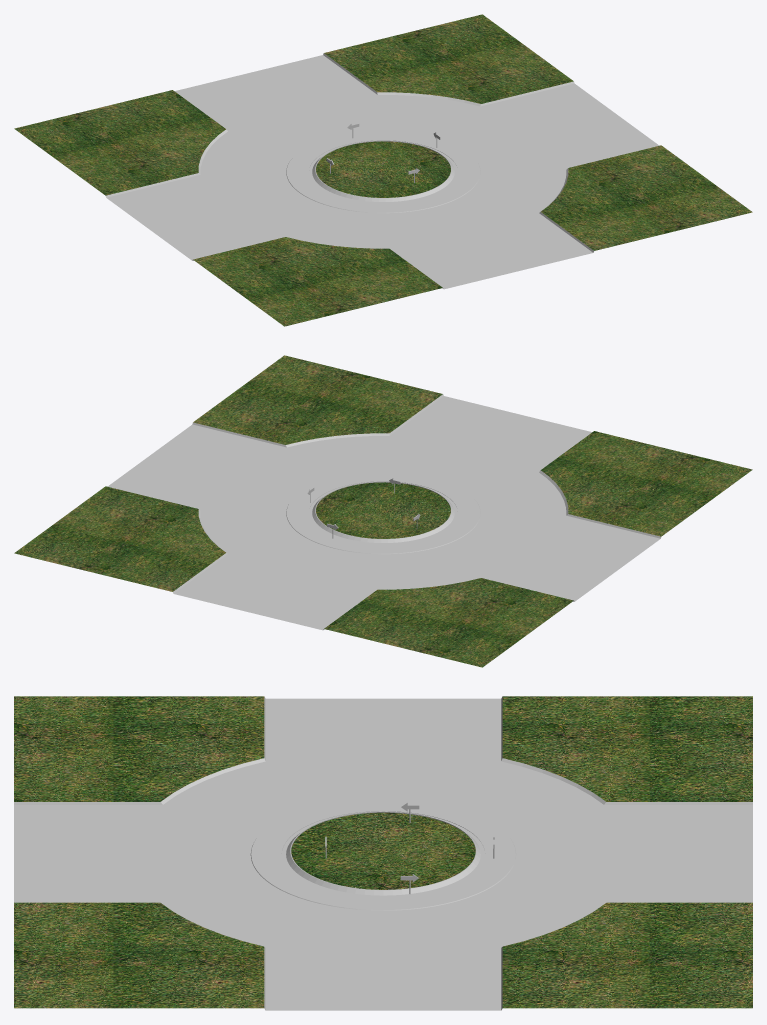
Rendered from roundabout.obj.
The picture shows the model from 3 angles, top to bottom: view 1: azimuth 30°, elevation 25°; view 2: azimuth 150°, elevation 25°; view 3: azimuth 270°, elevation 25°; orthographic projection. The views are drawn at different scales.
Visible parts, largest first — view 1: roundabout; view 2: roundabout; view 3: roundabout.
Part boxes in pixels (bbox=[...]): roundabout: bbox=[14, 14, 752, 326]; roundabout: bbox=[14, 355, 752, 667]; roundabout: bbox=[14, 696, 752, 1010].
Bounding box in the file's own units: 48.13 × 1.64 × 48.13.
